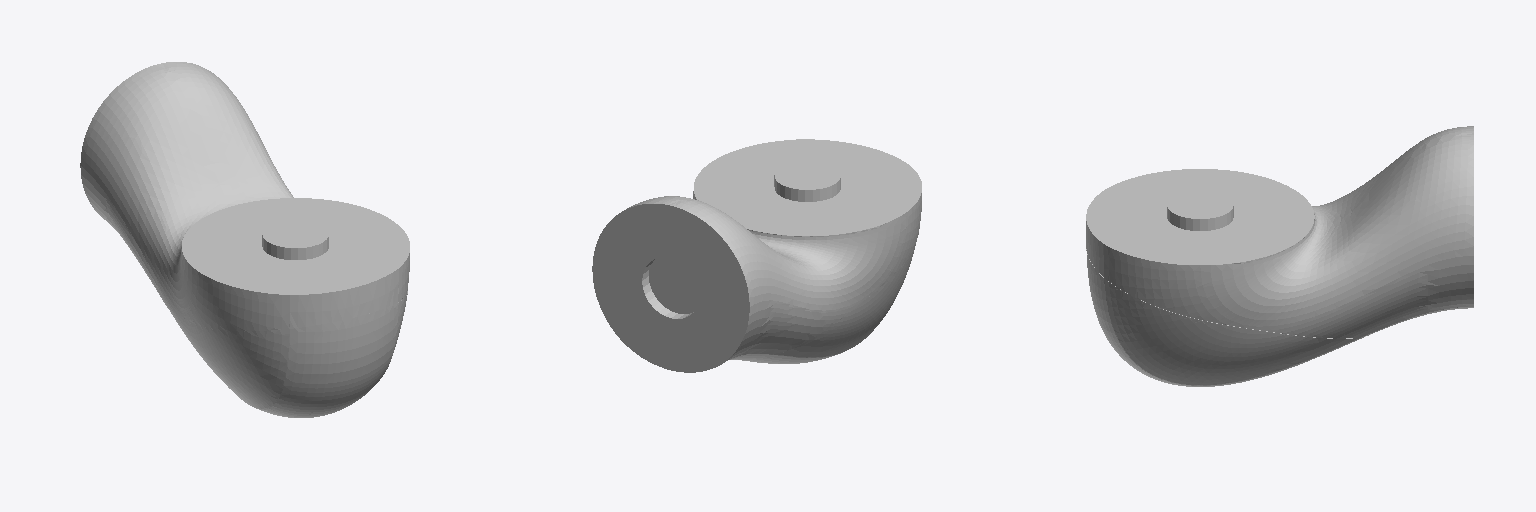
The model's file is lbr_iiwa_14_r820_part_3.obj.
The picture shows the model from 3 angles: view 1: azimuth 30°, elevation 25°; view 2: azimuth 150°, elevation 25°; view 3: azimuth 270°, elevation 25°; orthographic projection.
Visible parts, largest first — view 1: mesh 1 LBR IIWA 14 R820.sldasm-Part-3; view 2: mesh 1 LBR IIWA 14 R820.sldasm-Part-3; view 3: mesh 1 LBR IIWA 14 R820.sldasm-Part-3.
Part boxes in pixels (x1,y1,x2,y2): mesh 1 LBR IIWA 14 R820.sldasm-Part-3: (80, 62, 409, 417); mesh 1 LBR IIWA 14 R820.sldasm-Part-3: (592, 139, 921, 372); mesh 1 LBR IIWA 14 R820.sldasm-Part-3: (1086, 126, 1473, 386).
Bounding box in the file's own units: 0.171 × 0.2001 × 0.29.